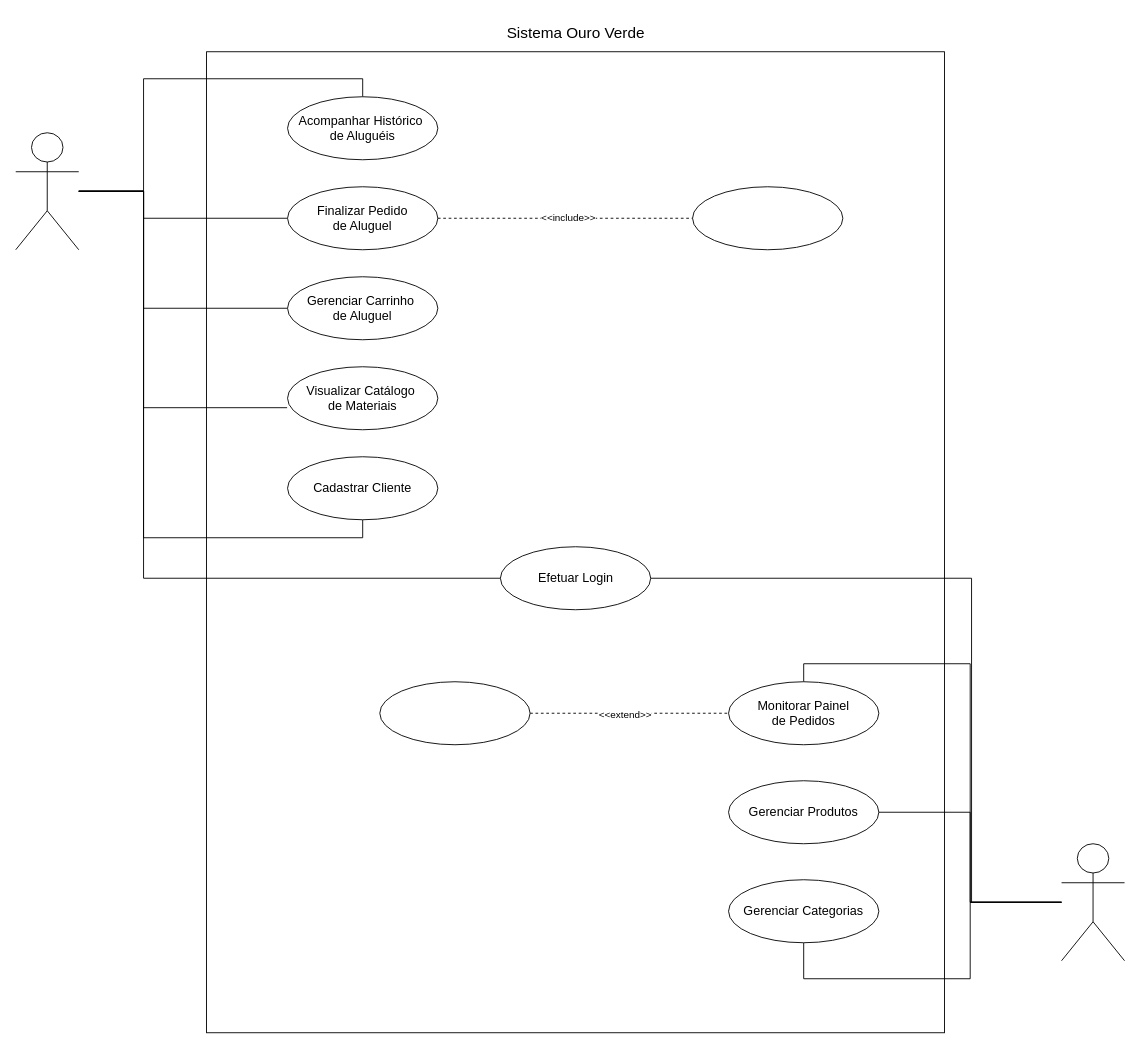
Image size: 1142x1049. Some labels were removed from this diagram. Each missing label, with the box of its shape:
Administrador: (1061, 843, 1125, 961)
Cliente: (15, 132, 79, 250)
Registrar Pagamento Manual: (379, 681, 530, 745)
Verificar Disponibilidade: (692, 186, 843, 250)
